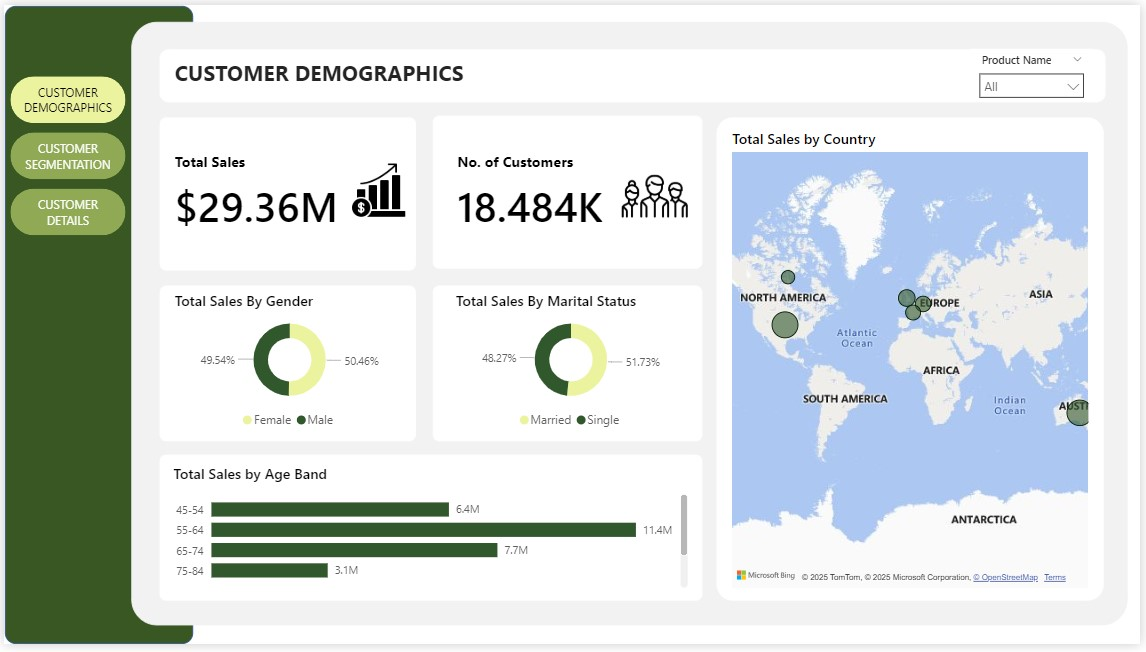

What the dashboard file says about the page in this screenshot:
{"tool":"powerbi","page":{"name":"CUSTOMER DEMOGRAPHICS","canvas":[1280,720],"ordinal":0},"visuals":[{"type":"cardVisual","fields":{"Data":["Sum(FactInternetSales.SalesAmount)"]},"box":[186.7,140,270,143.3],"z":0},{"type":"cardVisual","fields":{"Data":["Count(FactInternetSales.CustomerKey)"]},"box":[505,140,270,143.3],"z":1000},{"type":"donutChart","title":"Total Sales By Gender","fields":{"Y":["Sum(FactInternetSales.SalesAmount)"],"Category":["DimCustomer.Gender"]},"box":[187,321.7,269.6,165.2],"z":2000},{"type":"donutChart","title":"Total Sales By Marital Status","fields":{"Y":["Sum(FactInternetSales.SalesAmount)"],"Series":["DimCustomer.MaritalStatus"]},"box":[504.3,321.7,269.6,165.2],"z":3000},{"type":"barChart","title":"Total Sales by Age Band","fields":{"Y":["Sum(FactInternetSales.SalesAmount)"],"Category":["Age Sort.Age Band"]},"box":[186.2,517.2,589.7,144.8],"z":4000},{"type":"map","title":"Total Sales by Country","fields":{"Category":["DimGeography.Country"],"Size":["Sum(FactInternetSales.SalesAmount)"]},"box":[814.8,139.5,411.1,522.2],"z":5000},{"type":"textbox","box":[186.7,55,346.7,48.3],"z":6000},{"type":"slicer","fields":{"Values":["DimProduct.ProductName"]},"box":[1088.9,48.8,138.4,59],"z":7000},{"type":"pageNavigator","box":[7.5,80,130,180],"z":7001}]}

Visuals, with their boxes in screenshot pixels (x1, y1, x2, y2), scaled from the page's 1280x720 canvas onto the 1146x652 screenshot:
cardVisual - Sum(FactInternetSales.SalesAmount): locate(167, 127, 409, 257)
cardVisual - Count(FactInternetSales.CustomerKey): locate(452, 127, 694, 257)
"Total Sales By Gender" donutChart: locate(167, 291, 409, 441)
"Total Sales By Marital Status" donutChart: locate(452, 291, 693, 441)
"Total Sales by Age Band" barChart: locate(167, 468, 695, 599)
"Total Sales by Country" map: locate(730, 126, 1098, 599)
textbox: locate(167, 50, 478, 94)
slicer - DimProduct.ProductName: locate(975, 44, 1099, 98)
pageNavigator: locate(7, 72, 123, 235)
